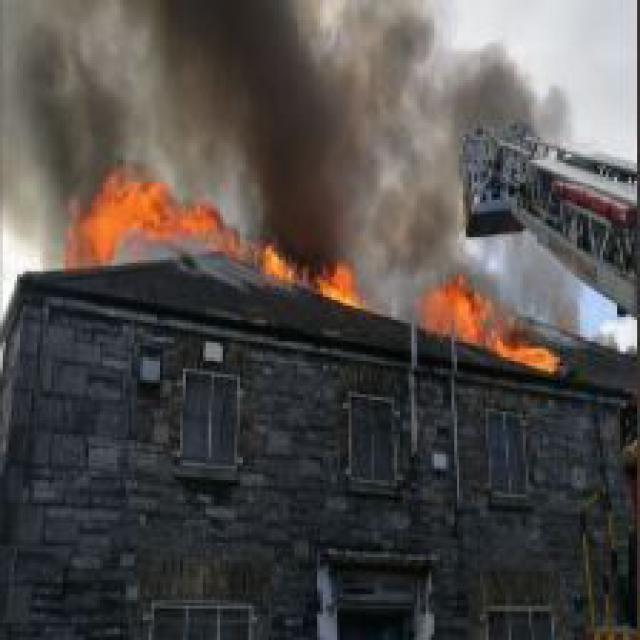fire: (52, 160, 248, 277), (417, 271, 572, 383), (255, 220, 372, 311)
